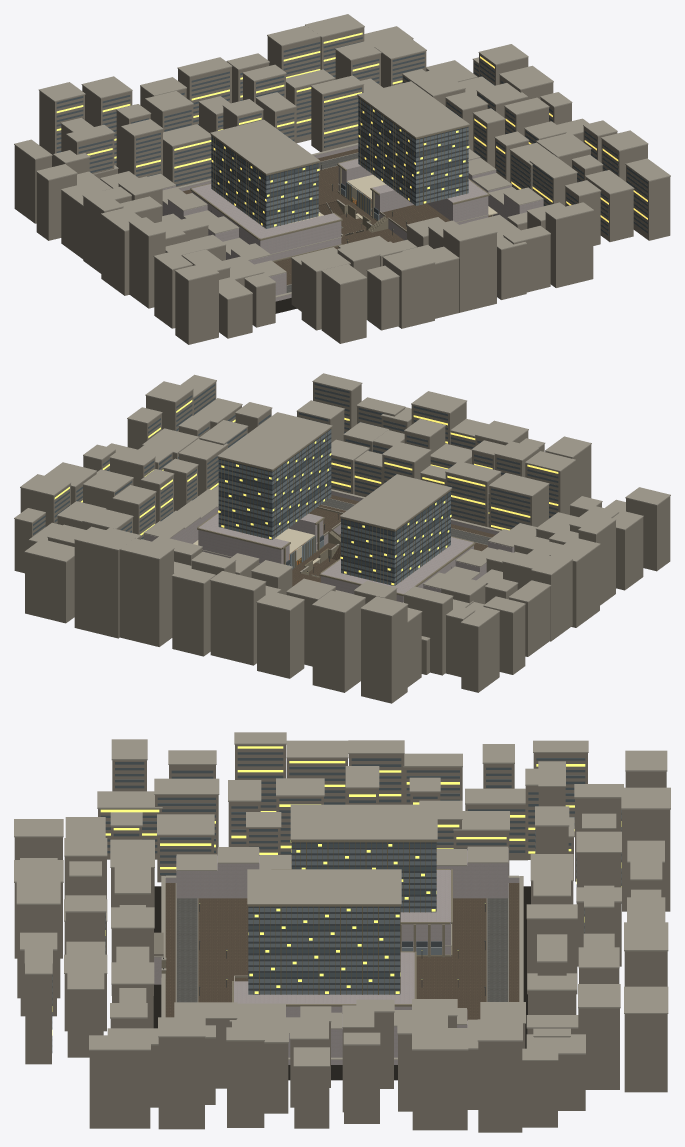
File: central-towers.glb
The picture shows the model from 3 angles, top to bottom: view 1: azimuth 30°, elevation 25°; view 2: azimuth 150°, elevation 25°; view 3: azimuth 270°, elevation 25°; orthographic projection. The views are drawn at different scales.
Visible parts, largest first — view 1: bake:plain:plain:#8e8779:1.00:0.00:None, bake:plain:plain:#a8a294:1.00:0.00:None, bake:plain:plain:#5d686c:1.00:0.00:None, bake:painted_plaster_wall:render:#c6bca8, bake:plain:plain:#7c878a:1.00:0.00:None, bake:plain:plain:#4f565a:1.00:0.00:None, bake:plain:plain:#7d6a45:1.00:0.00:None, bake:plain:glow:#a8863f, bake:concrete_wall_007:concrete:#9d968c, bake:herringbone_pavement:paving:#efe7d4, bake:herringbone_pavement:paving:#e7dfcc, bake:plain:plain:#d7cdb3:1.00:0.00:None; view 2: bake:plain:plain:#8e8779:1.00:0.00:None, bake:plain:plain:#a8a294:1.00:0.00:None, bake:plain:plain:#7c878a:1.00:0.00:None, bake:plain:plain:#5d686c:1.00:0.00:None, bake:plain:plain:#4f565a:1.00:0.00:None, bake:painted_plaster_wall:render:#c6bca8, bake:plain:plain:#7d6a45:1.00:0.00:None, bake:plain:glow:#a8863f, bake:concrete_wall_007:concrete:#9d968c, bake:herringbone_pavement:paving:#efe7d4, bake:herringbone_pavement:paving:#e7dfcc, bake:plain:plain:#d7cdb3:1.00:0.00:None (+1 smaller); view 3: bake:plain:plain:#8e8779:1.00:0.00:None, bake:plain:plain:#a8a294:1.00:0.00:None, bake:herringbone_pavement:paving:#efe7d4, bake:plain:plain:#5d686c:1.00:0.00:None, bake:plain:plain:#7c878a:1.00:0.00:None, bake:painted_plaster_wall:render:#c6bca8, bake:plain:plain:#4f565a:1.00:0.00:None, bake:asphalt_02:asphalt, bake:plain:plain:#7d6a45:1.00:0.00:None, bake:plain:glow:#a8863f, bake:concrete_wall_007:concrete:#9d968c, bake:plain:plain:#24211d:1.00:0.00:None.
Boxes of the visible parts, bbox=[...] form: bake:plain:plain:#8e8779:1.00:0.00:None: bbox=[14, 27, 670, 344]; bake:plain:plain:#a8a294:1.00:0.00:None: bbox=[14, 14, 670, 299]; bake:plain:plain:#5d686c:1.00:0.00:None: bbox=[56, 37, 647, 235]; bake:painted_plaster_wall:render:#c6bca8: bbox=[162, 145, 543, 301]; bake:plain:plain:#7c878a:1.00:0.00:None: bbox=[211, 98, 468, 228]; bake:plain:plain:#4f565a:1.00:0.00:None: bbox=[211, 97, 468, 225]; bake:plain:plain:#7d6a45:1.00:0.00:None: bbox=[213, 99, 466, 227]; bake:plain:glow:#a8863f: bbox=[56, 32, 647, 226]; bake:concrete_wall_007:concrete:#9d968c: bbox=[190, 96, 492, 261]; bake:herringbone_pavement:paving:#efe7d4: bbox=[183, 148, 490, 284]; bake:herringbone_pavement:paving:#e7dfcc: bbox=[318, 201, 450, 236]; bake:plain:plain:#d7cdb3:1.00:0.00:None: bbox=[288, 175, 497, 223]; bake:plain:plain:#8e8779:1.00:0.00:None: bbox=[14, 382, 670, 703]; bake:plain:plain:#a8a294:1.00:0.00:None: bbox=[14, 373, 670, 641]; bake:plain:plain:#7c878a:1.00:0.00:None: bbox=[218, 430, 450, 585]; bake:plain:plain:#5d686c:1.00:0.00:None: bbox=[33, 383, 558, 572]; bake:plain:plain:#4f565a:1.00:0.00:None: bbox=[218, 429, 450, 582]; bake:painted_plaster_wall:render:#c6bca8: bbox=[144, 491, 514, 602]; bake:plain:plain:#7d6a45:1.00:0.00:None: bbox=[221, 432, 447, 585]; bake:plain:glow:#a8863f: bbox=[54, 400, 558, 585]; bake:concrete_wall_007:concrete:#9d968c: bbox=[197, 427, 475, 596]; bake:herringbone_pavement:paving:#efe7d4: bbox=[292, 495, 494, 586]; bake:herringbone_pavement:paving:#e7dfcc: bbox=[309, 508, 341, 578]; bake:plain:plain:#d7cdb3:1.00:0.00:None: bbox=[193, 528, 320, 565]; bake:plain:plain:#8e8779:1.00:0.00:None: bbox=[14, 744, 670, 1132]; bake:plain:plain:#a8a294:1.00:0.00:None: bbox=[14, 732, 670, 1066]; bake:herringbone_pavement:paving:#efe7d4: bbox=[165, 883, 519, 1020]; bake:plain:plain:#5d686c:1.00:0.00:None: bbox=[52, 752, 621, 1052]; bake:plain:plain:#7c878a:1.00:0.00:None: bbox=[248, 849, 441, 994]; bake:painted_plaster_wall:render:#c6bca8: bbox=[154, 848, 519, 1064]; bake:plain:plain:#4f565a:1.00:0.00:None: bbox=[248, 842, 441, 990]; bake:asphalt_02:asphalt: bbox=[176, 898, 508, 1002]; bake:plain:plain:#7d6a45:1.00:0.00:None: bbox=[253, 842, 436, 994]; bake:plain:glow:#a8863f: bbox=[52, 746, 621, 1035]; bake:concrete_wall_007:concrete:#9d968c: bbox=[161, 840, 452, 1006]; bake:plain:plain:#24211d:1.00:0.00:None: bbox=[153, 886, 530, 1080].
Size of the model in its own units: 403 by 85.36 by 363.
Materials: 20 (7 with a texture image).
